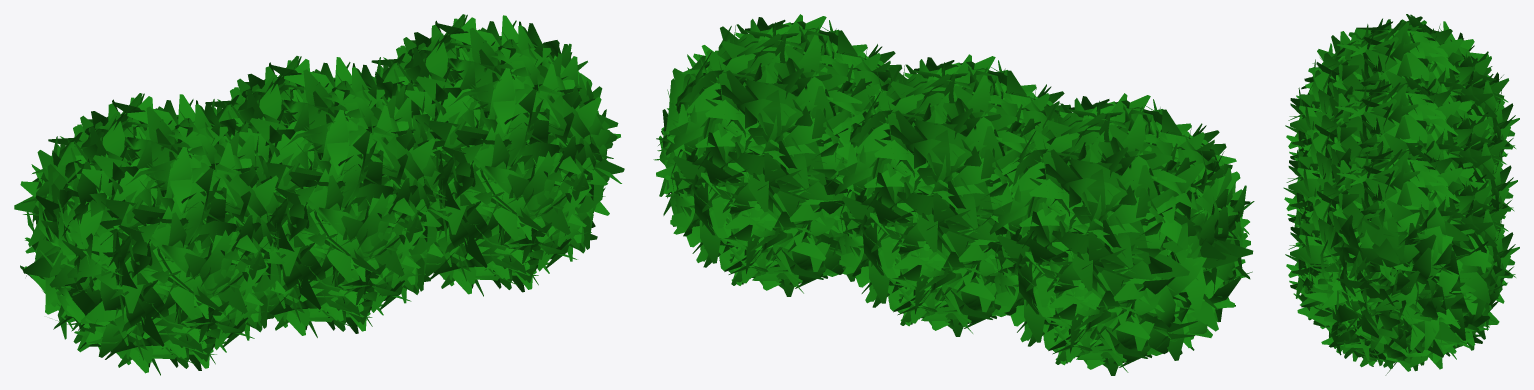
The model's file is Bush.glb.
3 renders of one model, left to right at view 1: azimuth 30°, elevation 25°; view 2: azimuth 150°, elevation 25°; view 3: azimuth 270°, elevation 25°, orthographic. The views are drawn at different scales.
Visible parts, largest first — view 1: Плоскость.002; view 2: Плоскость.002; view 3: Плоскость.002.
Boxes of the visible parts, x1,y1,x2,y2 form: Плоскость.002: (14, 14, 624, 375); Плоскость.002: (653, 14, 1254, 375); Плоскость.002: (1283, 14, 1519, 375).
Bounding box in the file's own units: 5.78 × 2.53 × 2.56.
